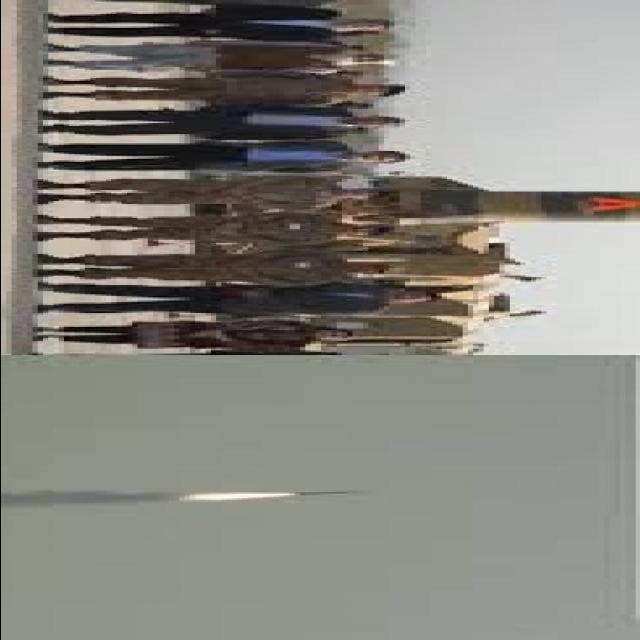Missile: (290, 490, 356, 498)
